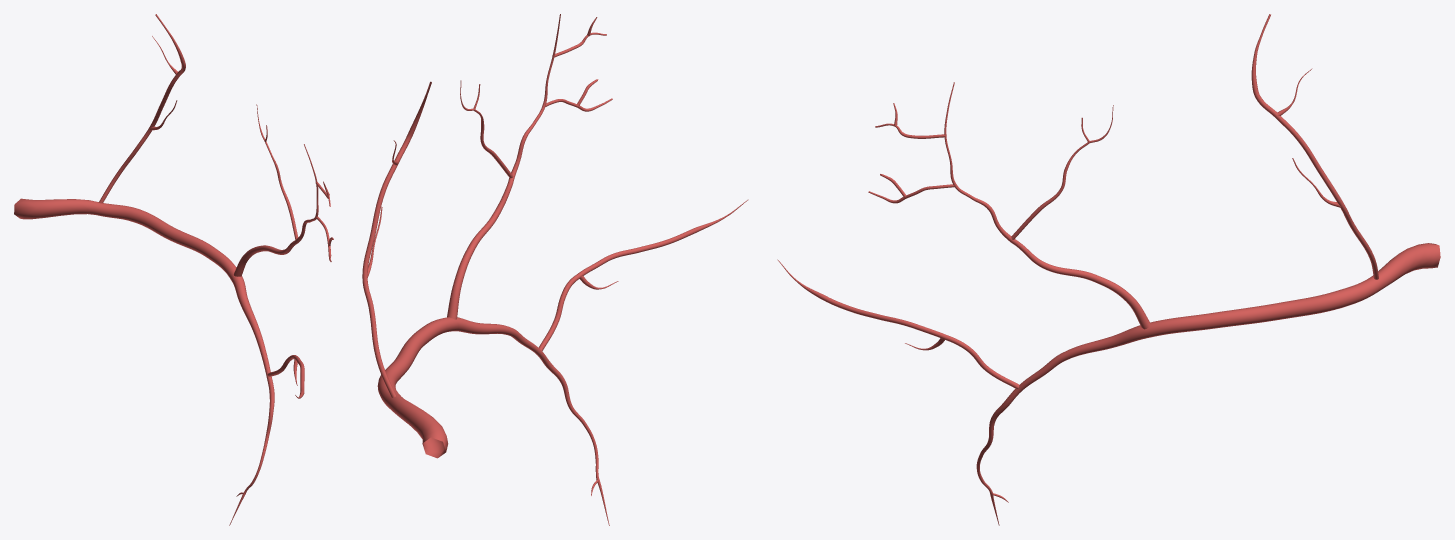
The picture shows the model from 3 angles, left to right: view 1: azimuth 30°, elevation 25°; view 2: azimuth 150°, elevation 25°; view 3: azimuth 270°, elevation 25°; orthographic projection. The views are drawn at different scales.
Parts seen in each view (by area): view 1: 左侧颞浅动脉; view 2: 左侧颞浅动脉; view 3: 左侧颞浅动脉.
Part boxes in pixels (x1,y1,x2,y2): 左侧颞浅动脉: (14, 14, 333, 525); 左侧颞浅动脉: (362, 14, 748, 525); 左侧颞浅动脉: (777, 14, 1440, 525).
Bounding box in the file's own units: 0.0487 × 0.1641 × 0.185.
